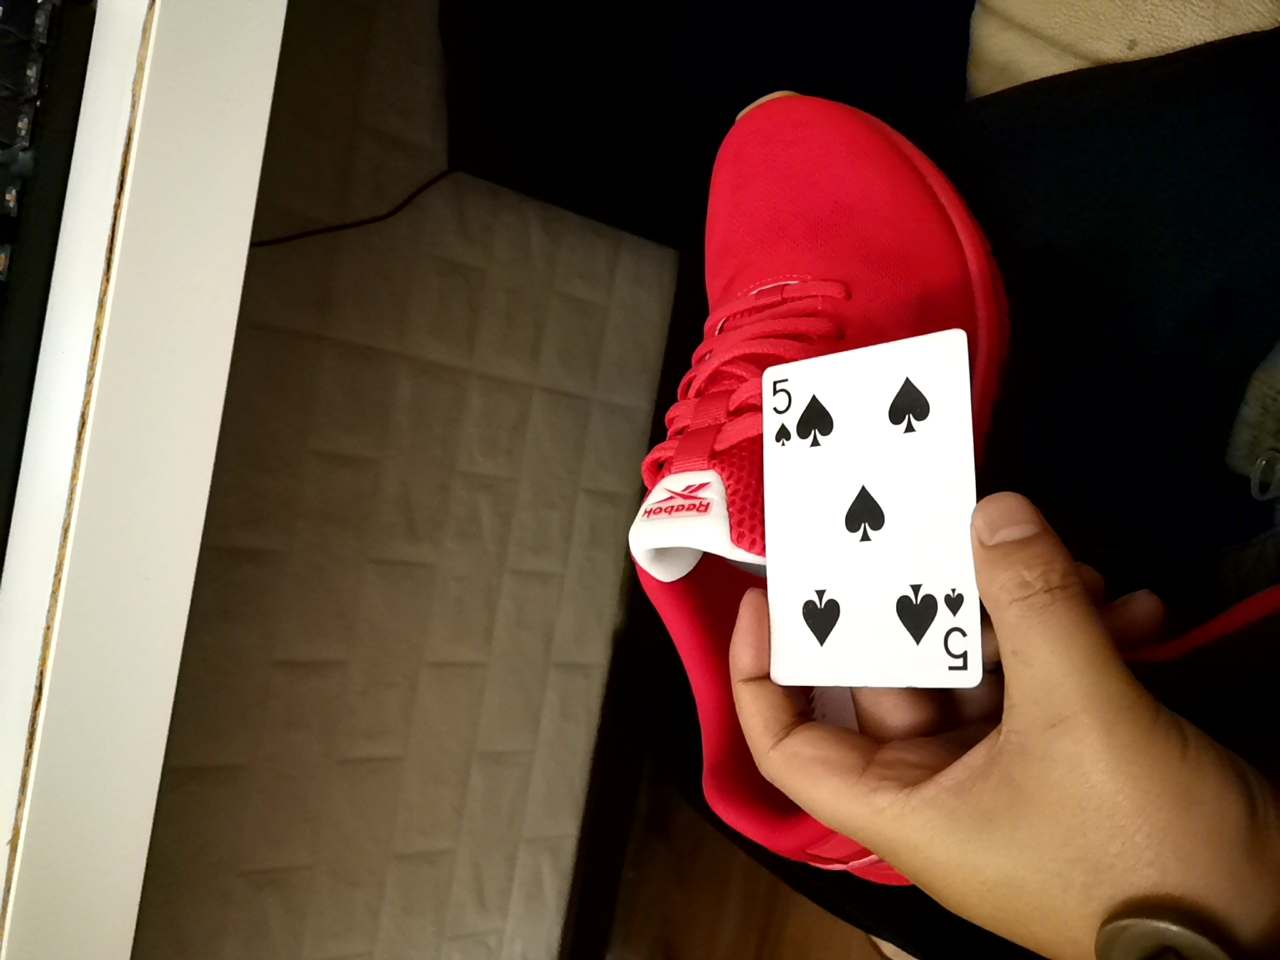ht 5: (741, 328, 982, 674)
